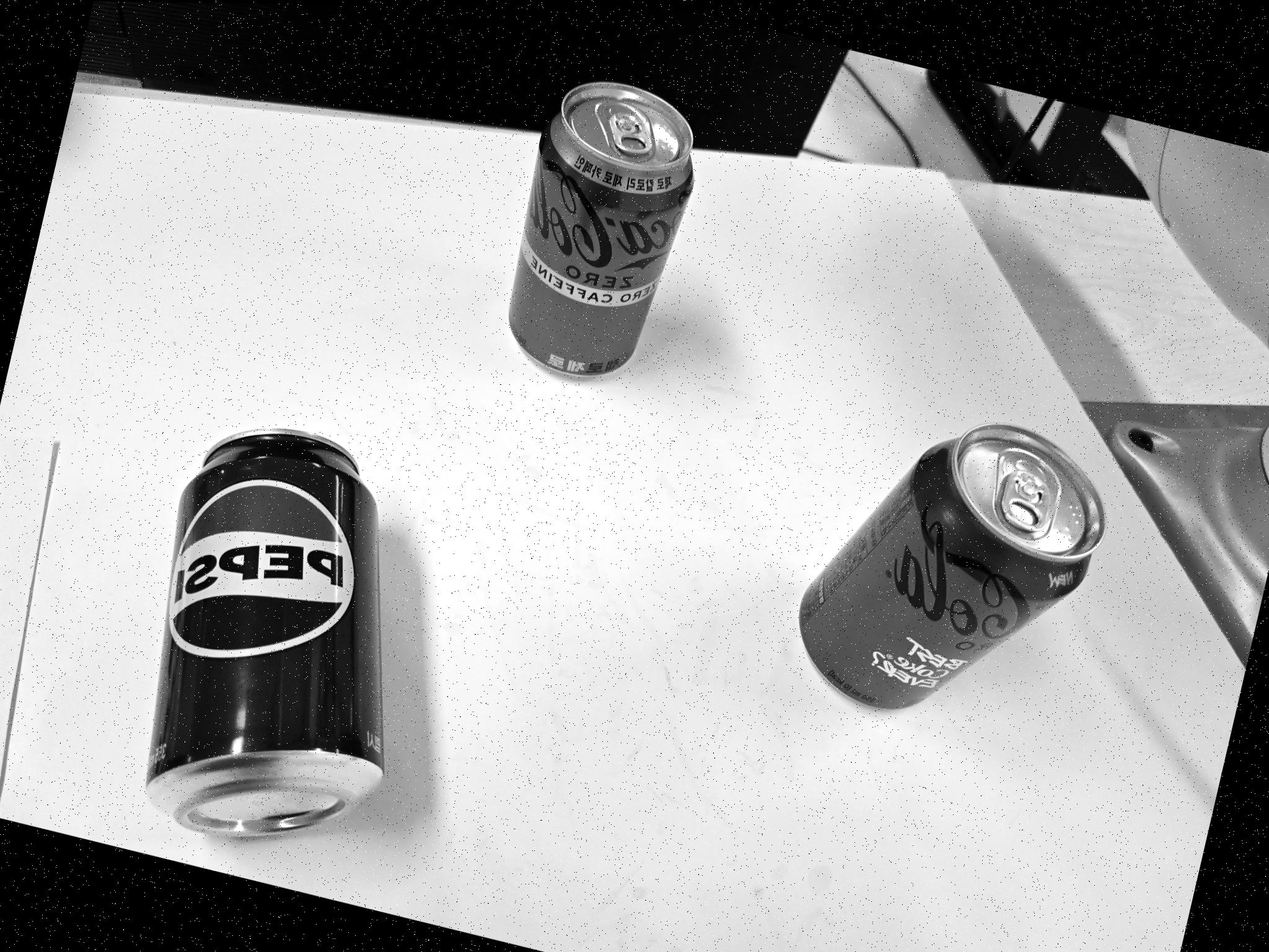can_coke_decaf: (503, 79, 695, 375)
can_coke_zero: (799, 425, 1103, 714)
can_pepsi: (145, 428, 383, 839)
